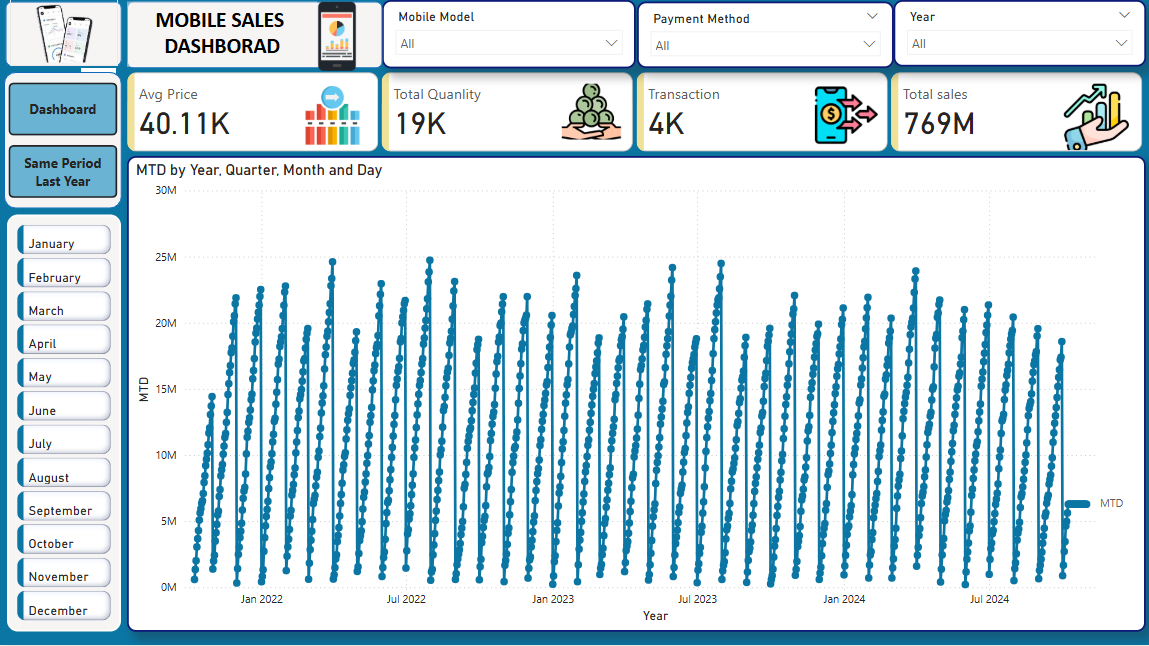

What the dashboard file says about the page in this screenshot:
{"tool":"powerbi","page":{"name":"MTD Report","canvas":[1280,720],"ordinal":1},"visuals":[{"type":"shape","box":[8.1,5.4,129,72],"z":0},{"type":"image","box":[12.9,0,121,77.4],"z":1000},{"type":"shape","box":[6.5,83.9,130.6,151.6],"z":2000},{"type":"cardVisual","fields":{"Data":["Mobile Sales Data.Avg Price","Mobile Sales Data.Total Quanlity","Mobile Sales Data.Transaction","Mobile Sales Data.Total sales"]},"box":[138.3,78.3,1141.7,98.3],"z":3000},{"type":"slicer","fields":{"Values":["Mobile Sales Data.Mobile Model"]},"box":[427.4,3.2,282.3,75.8],"z":4000},{"type":"slicer","fields":{"Values":["Mobile Sales Data.Payment Method"]},"box":[709.7,4.8,285.5,74.2],"z":5000},{"type":"slicer","fields":{"Values":["custom calender.Date.Variation.Date Hierarchy.Year"]},"box":[995.7,3.8,280.6,74.2],"z":6000},{"type":"shape","box":[143.5,4.8,283.9,74.2],"z":7000},{"type":"textbox","box":[143.5,4.8,211.3,72.6],"z":8000},{"type":"image","box":[324.2,0,103.2,87.1],"z":9000},{"type":"lineChart","fields":{"Category":["custom calender.Date.Variation.Date Hierarchy.Year","custom calender.Date.Variation.Date Hierarchy.Quarter","custom calender.Date.Variation.Date Hierarchy.Month","custom calender.Date.Variation.Date Hierarchy.Day"],"Y":["Mobile Sales Data.MTD"]},"box":[143.3,176.7,1131.7,528.3],"z":10000},{"type":"advancedSlicerVisual","fields":{"Values":["custom calender.Date.Variation.Date Hierarchy.Month"]},"box":[10,241.7,126.7,463.3],"z":11000},{"type":"pageNavigator","box":[11.7,95,121.7,128.3],"z":11001}]}

Visuals, with their boxes in screenshot pixels (x1, y1, x2, y2), scaled from the page's 1280x720 canvas onto the 1149x646 screenshot:
shape: box(7, 5, 123, 69)
image: box(12, 0, 120, 69)
shape: box(6, 75, 123, 211)
cardVisual - Mobile Sales Data.Avg Price x Mobile Sales Data.Total Quanlity: box(124, 70, 1148, 158)
slicer - Mobile Sales Data.Mobile Model: box(384, 3, 637, 71)
slicer - Mobile Sales Data.Payment Method: box(637, 4, 893, 71)
slicer - custom calender.Date.Variation.Date Hierarchy.Year: box(894, 3, 1146, 70)
shape: box(129, 4, 384, 71)
textbox: box(129, 4, 318, 69)
image: box(291, 0, 384, 78)
lineChart - custom calender.Date.Variation.Date Hierarchy.Year x custom calender.Date.Variation.Date Hierarchy.Quarter: box(129, 159, 1145, 633)
advancedSlicerVisual - custom calender.Date.Variation.Date Hierarchy.Month: box(9, 217, 123, 633)
pageNavigator: box(11, 85, 120, 200)
